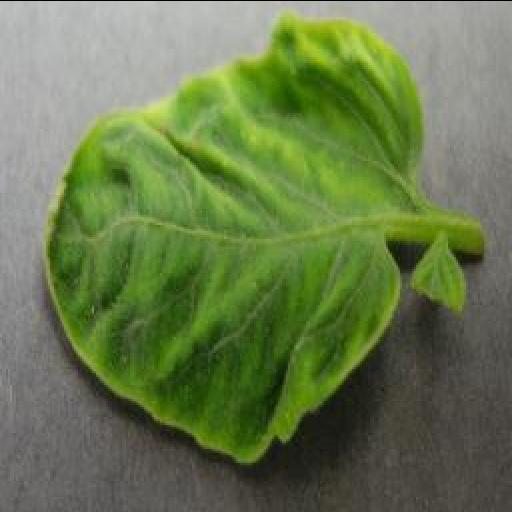disease_tomato: (40, 14, 426, 462)
